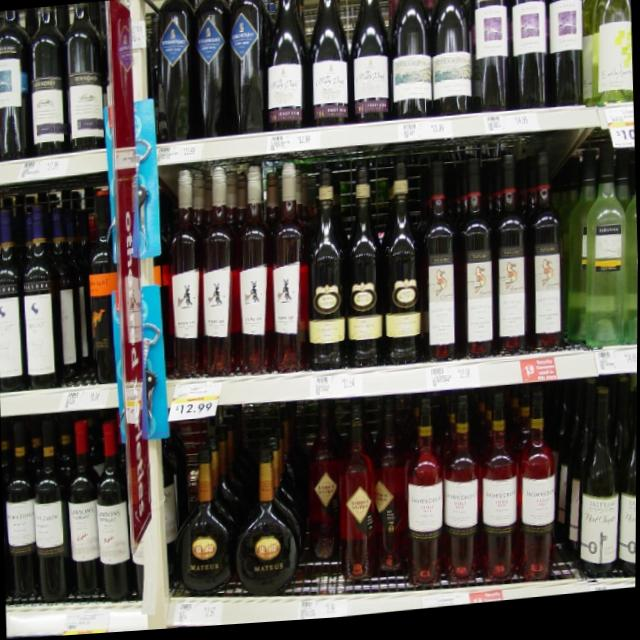q175: (61, 413, 102, 609), (92, 414, 129, 600)
